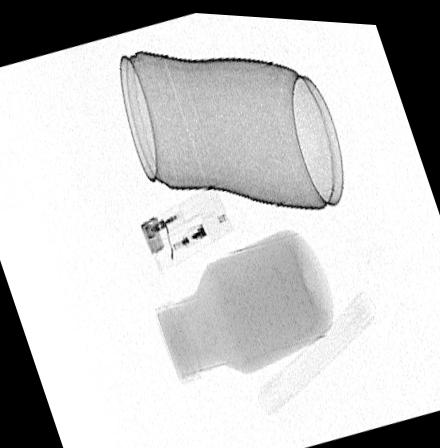Lighter: (140, 181, 232, 275)
